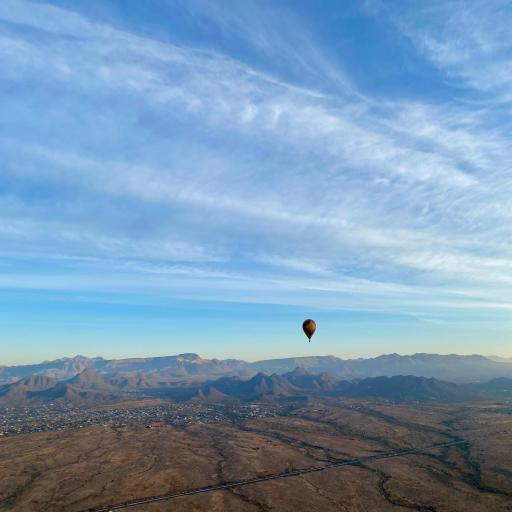hot air ballon: (302, 319, 316, 342)
